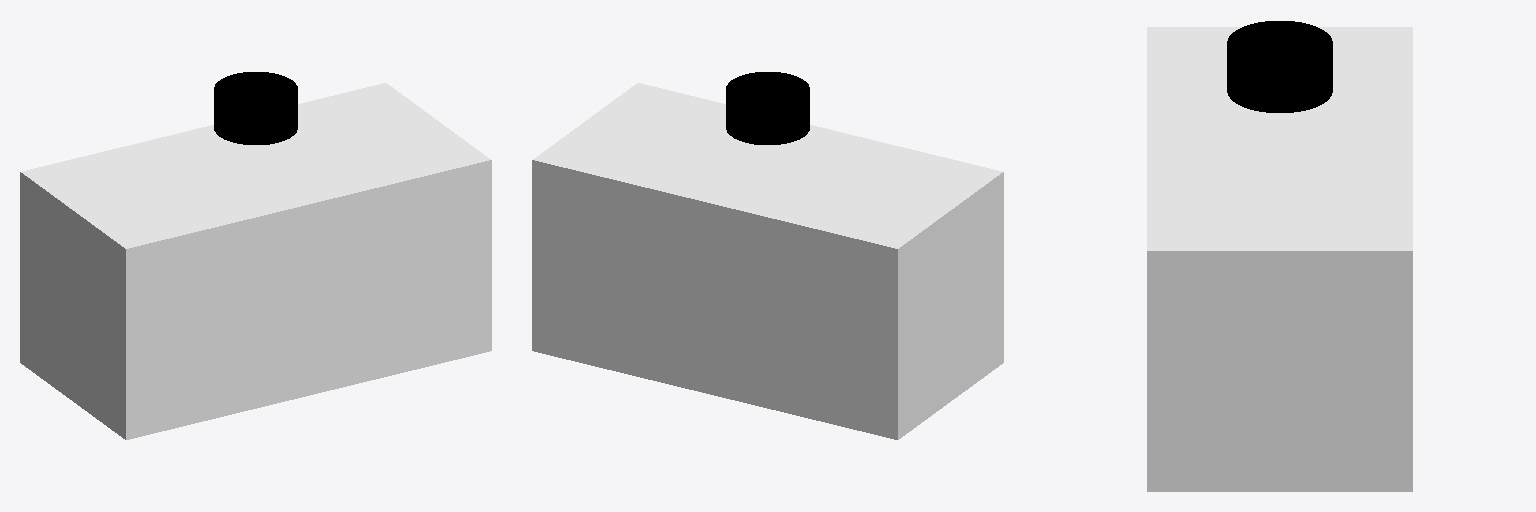
The robot description file, URDF, robot "vehicle":
<?xml version="1.0"?>
  <robot name="vehicle">
    <link name="base_link">
      <visual>
        <geometry>
          <box size="1 .5 .5"/>
        </geometry>
        <origin rpy="0 0 0" xyz="0 0 0"/>
        <material name="white">
          <color rgba="1 1 1 1"/>
        </material>
      </visual>
    </link>

    <link name="lidar_link">
      <visual>
        <geometry>
          <cylinder length="0.1" radius="0.1"/>
        </geometry>
        <origin rpy="0 0 0" xyz="0 0 0"/>
          <material name="black">
            <color rgba="0 0 0 1"/>
          </material>
      </visual>
    </link>
  
    <joint name="base_to_lidar" type="fixed">
      <parent link="base_link"/>
      <child link="lidar_link"/>
      <origin xyz="0 0 0.4"/>
    </joint>
</robot>

--- What the picture shows (computed from the rendered views, not written in the file) ---
The picture shows the robot from 3 angles, left to right: view 1: azimuth 30°, elevation 25°; view 2: azimuth 150°, elevation 25°; view 3: azimuth 270°, elevation 25°; orthographic projection.
Model vehicle with 2 links and 1 joints (1 fixed), rooted at base_link, posed all joints at 0.
Visible links, largest first — view 1: base_link, lidar_link; view 2: base_link, lidar_link; view 3: base_link, lidar_link.
Boxes of the visible links, box(x1,y1,x2,y2) form: base_link: box(20, 83, 491, 439); lidar_link: box(214, 72, 297, 144); base_link: box(532, 83, 1003, 439); lidar_link: box(726, 72, 809, 144); base_link: box(1147, 27, 1412, 491); lidar_link: box(1227, 21, 1332, 112).
Size in the robot's own frame: 1 by 0.5 by 0.7 metres.
Geometry: primitives only (box / cylinder / sphere), no mesh files.